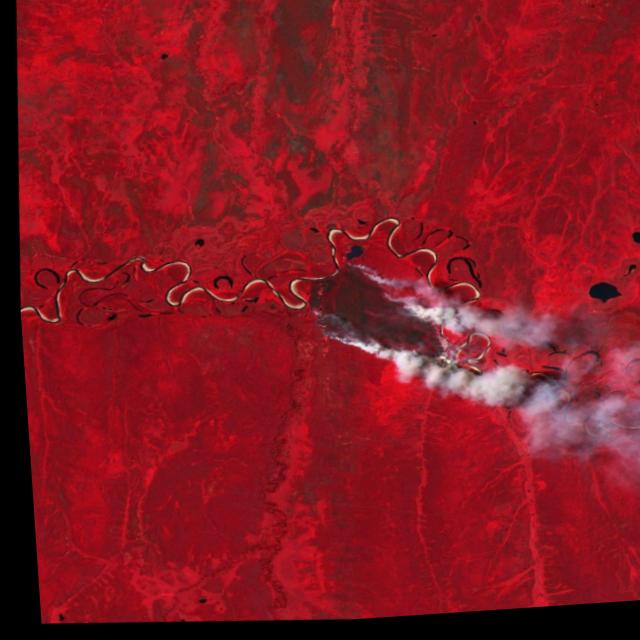fire: (296, 254, 453, 382)
